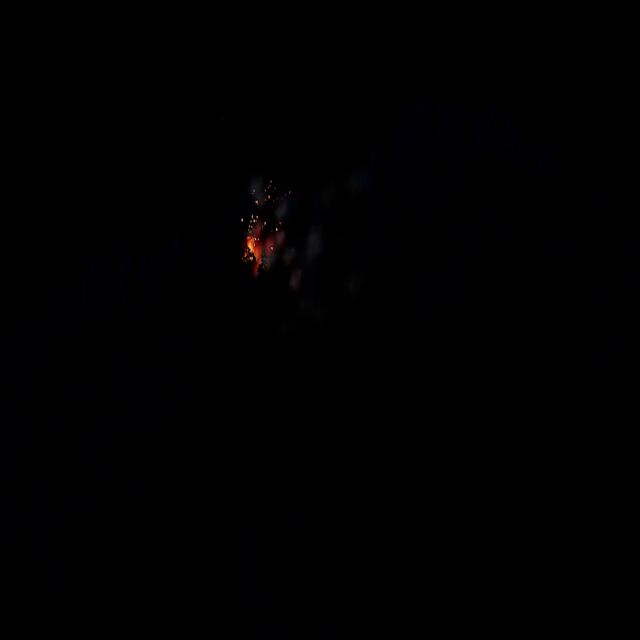fire: (241, 218, 269, 278)
smoke: (250, 177, 324, 291)
